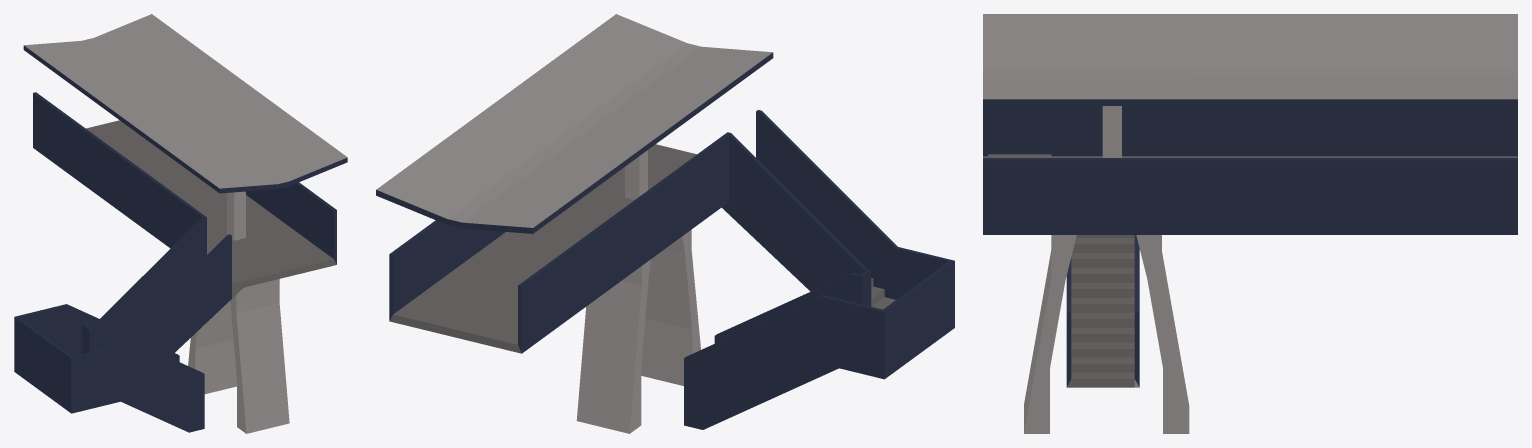
File: trainstation-oberpass.glb
3 views of the same model, side by side, from view 1: azimuth 30°, elevation 25°; view 2: azimuth 150°, elevation 25°; view 3: azimuth 270°, elevation 25° (orthographic). The views are drawn at different scales.
Parts seen in each view (by area): view 1: trainstation-oberpass; view 2: trainstation-oberpass; view 3: trainstation-oberpass.
Part boxes in pixels (x1,y1,x2,y2): trainstation-oberpass: (14, 14, 347, 433); trainstation-oberpass: (376, 14, 954, 433); trainstation-oberpass: (983, 14, 1517, 433).
Size of the model in its own units: 8.95 by 8.25 by 10.99.
1 material, 1 textured.
